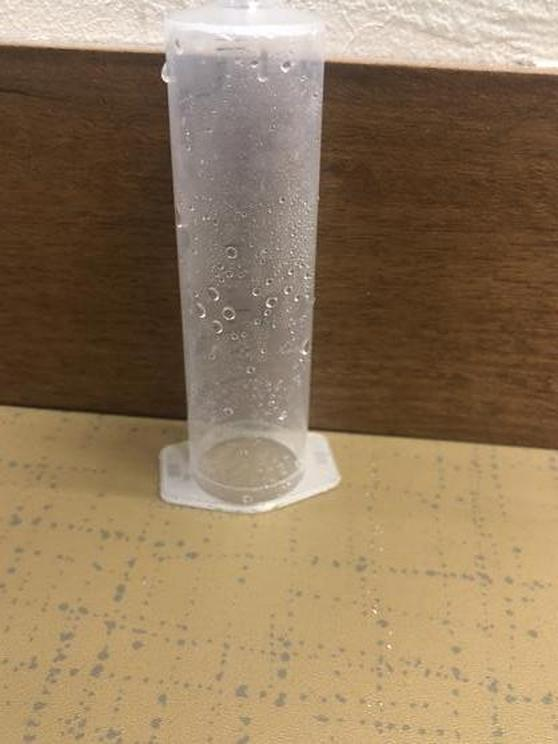wetsyringe: (152, 2, 341, 515)
